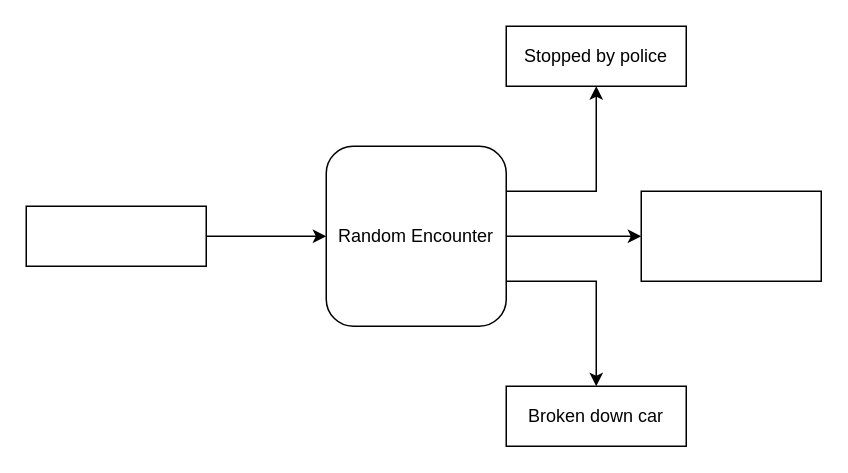
Image size: 848x473. Some labels were removed from this diagram. The shapes that lost their labels are listed below. From the top down, each one's box as (x1, y1, x2, y2) in pixels, then its label:
(25, 205, 206, 266): Start Journey
(640, 190, 821, 281): Pick Up Hitchhiker
